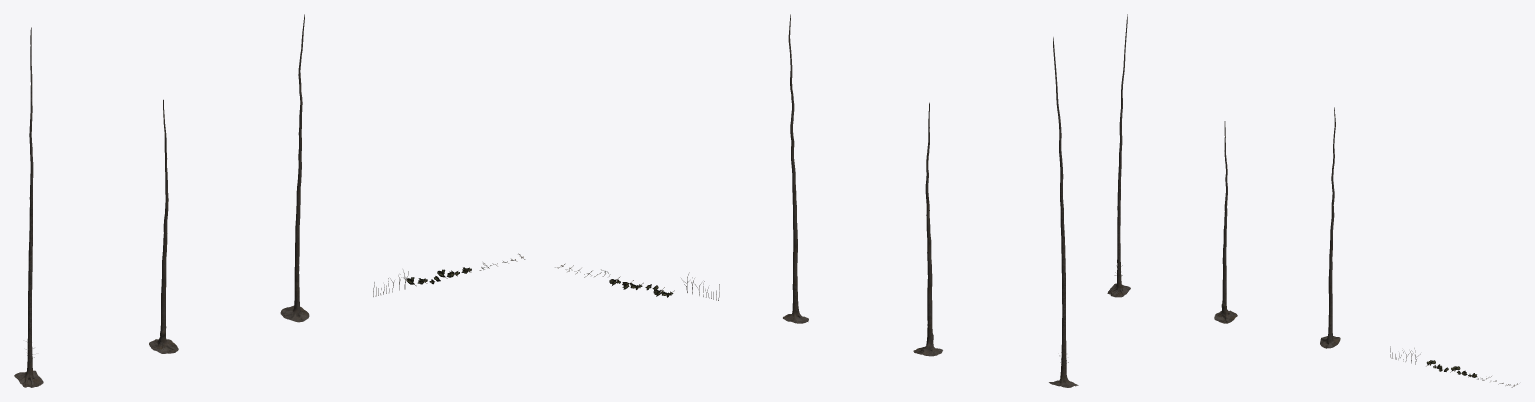
File: field_pine_a_lod0.glb
3 views of the same model, side by side, from view 1: azimuth 30°, elevation 25°; view 2: azimuth 150°, elevation 25°; view 3: azimuth 330°, elevation 25° (orthographic). The views are drawn at different scales.
Parts seen in each view (by area): view 1: bark_lod0; view 2: bark_lod0; view 3: bark_lod0.
Part boxes in pixels (x1=…): bark_lod0: x1=14, y1=14, x2=408, y2=387; bark_lod0: x1=681, y1=14, x2=1078, y2=387; bark_lod0: x1=1107, y1=14, x2=1420, y2=364.
Bounding box in the file's own units: 26.72 × 17.69 × 1.41.
2 materials, 2 textured.
